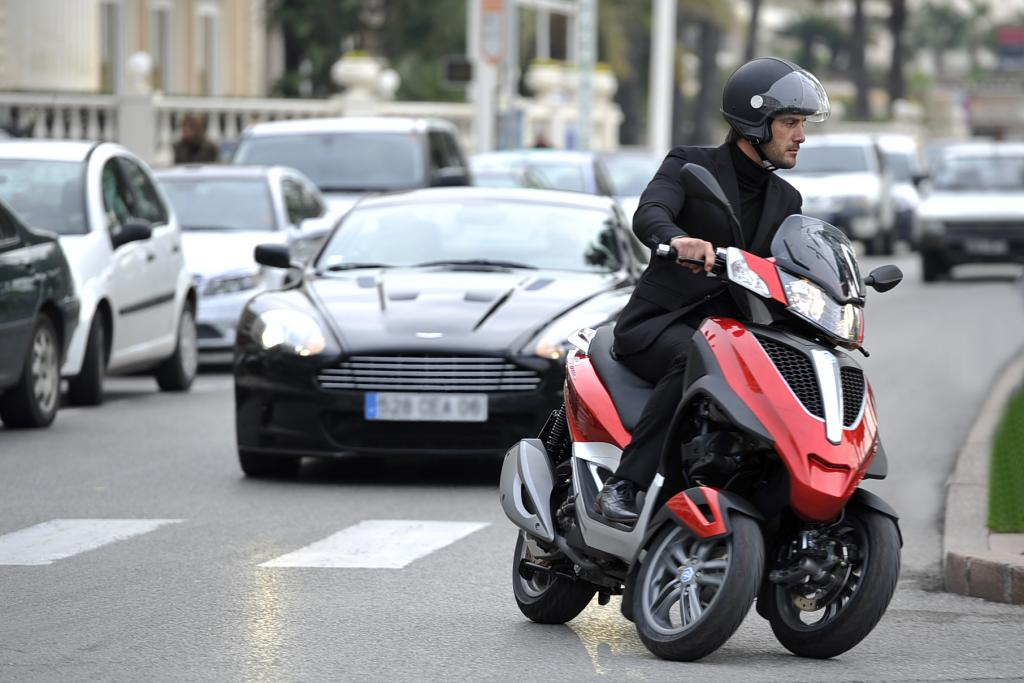helmet: (713, 48, 831, 173)
